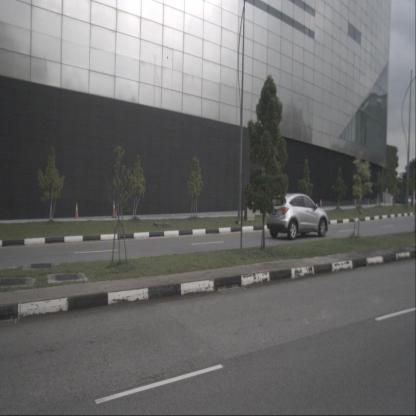cone: (111, 200, 117, 218), (74, 202, 80, 219), (319, 198, 322, 209), (337, 200, 340, 208), (353, 198, 356, 206), (367, 198, 369, 205)
